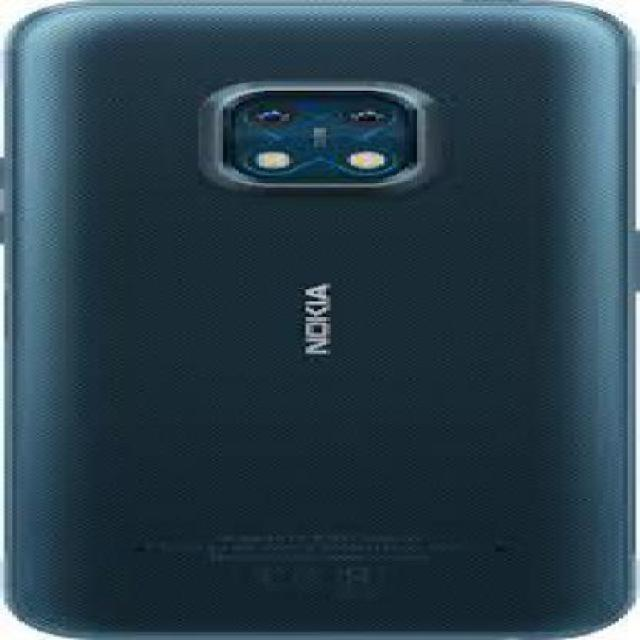mobile: (3, 1, 639, 638)
